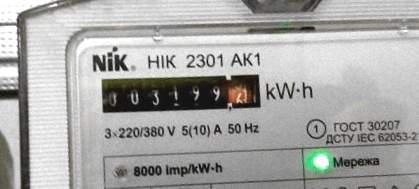0: (104, 87, 120, 107), (127, 85, 141, 105)
1: (169, 81, 180, 101)
3: (149, 86, 160, 106)
6: (233, 89, 245, 106)
9: (189, 82, 201, 101), (210, 83, 222, 102)
screen: (91, 52, 271, 136)
